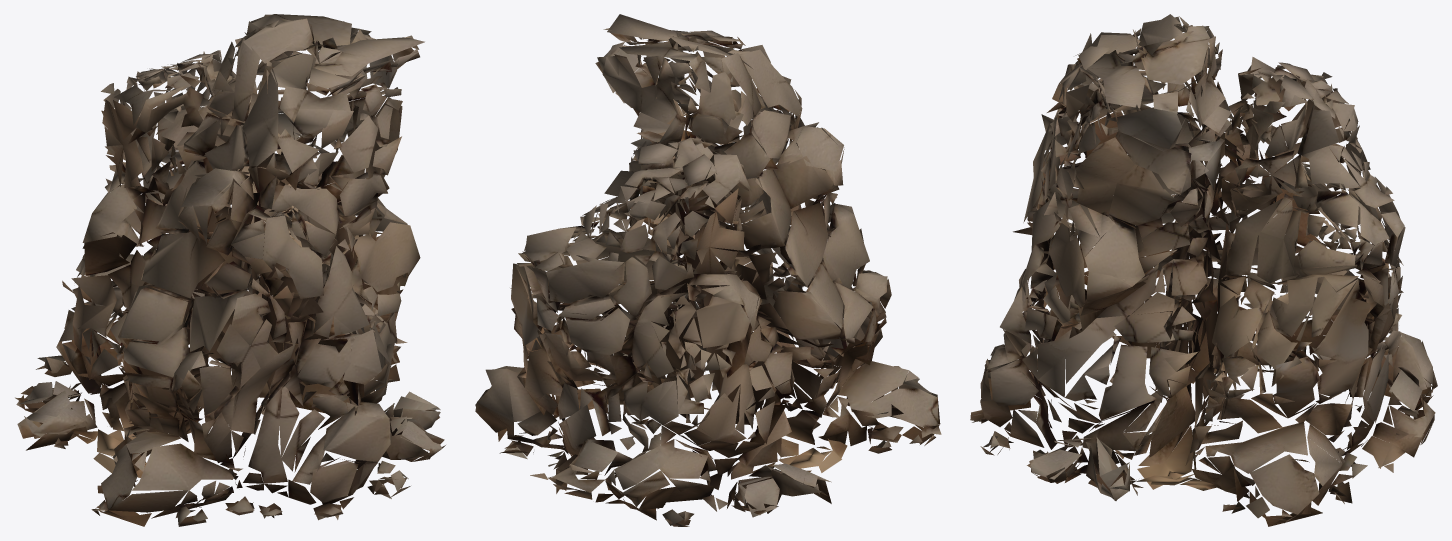
Rendered from ch9_tectonic_fault_rock_LOD2.glb.
3 renders of one model, left to right at view 1: azimuth 30°, elevation 25°; view 2: azimuth 150°, elevation 25°; view 3: azimuth 270°, elevation 25°, orthographic. The views are drawn at different scales.
Visible parts, largest first — view 1: tripo_node_c82a8420-657e-4b54-bbeb-f1ab4b4a74dd; view 2: tripo_node_c82a8420-657e-4b54-bbeb-f1ab4b4a74dd; view 3: tripo_node_c82a8420-657e-4b54-bbeb-f1ab4b4a74dd.
Boxes of the visible parts, x1,y1,x2,y2 form: tripo_node_c82a8420-657e-4b54-bbeb-f1ab4b4a74dd: (15, 14, 445, 526); tripo_node_c82a8420-657e-4b54-bbeb-f1ab4b4a74dd: (475, 14, 941, 526); tripo_node_c82a8420-657e-4b54-bbeb-f1ab4b4a74dd: (970, 14, 1437, 526).
Size of the model in its own units: 1.03 by 1.01 by 1.
1 material, 1 textured.
